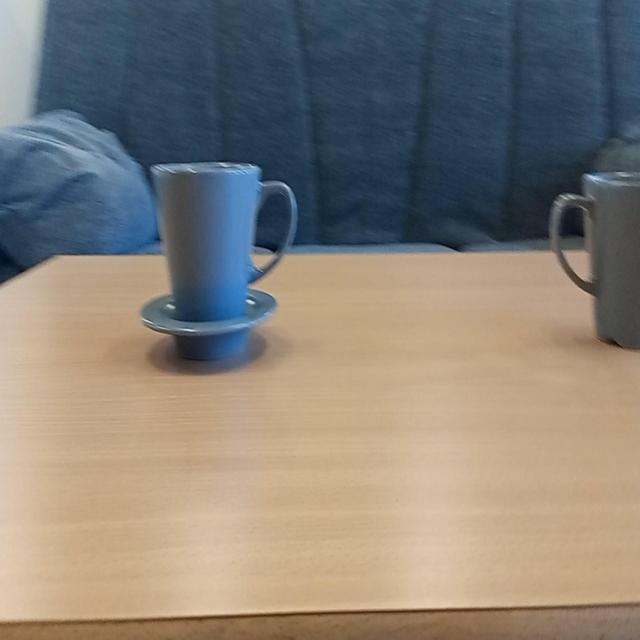cup: (148, 158, 297, 362)
